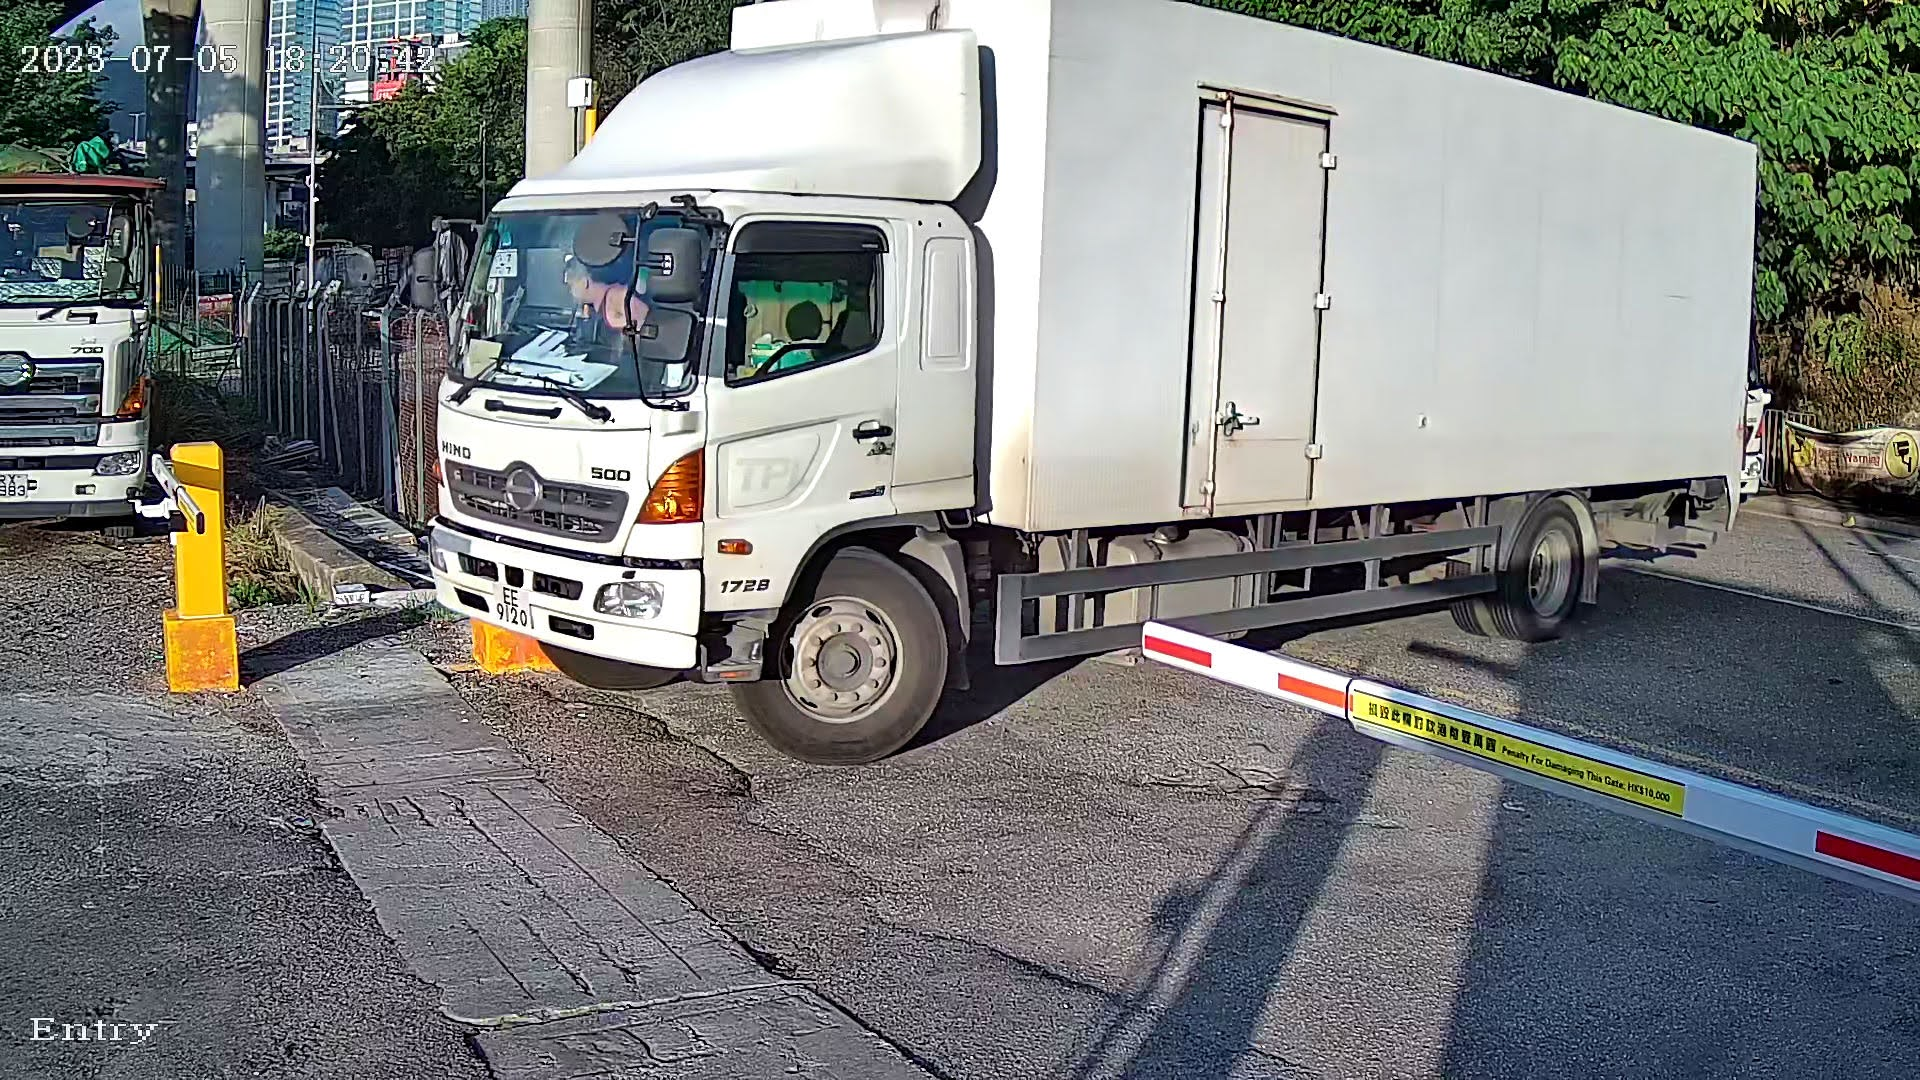truck_large: (409, 1, 1808, 807)
